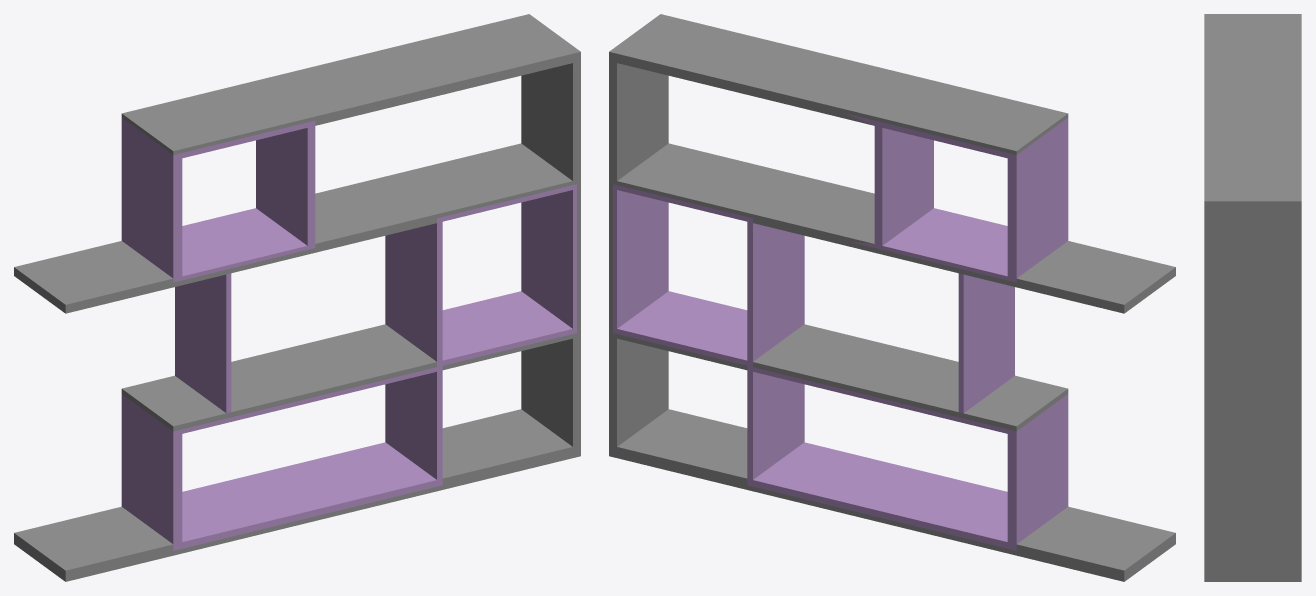
Rendered from repiza_cuadrada2.FBX.
3 views of the same model, side by side, from view 1: azimuth 30°, elevation 25°; view 2: azimuth 150°, elevation 25°; view 3: azimuth 270°, elevation 25° (orthographic). The views are drawn at different scales.
Parts seen in each view (by area): view 1: repiza cuadrada; view 2: repiza cuadrada; view 3: repiza cuadrada.
Boxes of the visible parts, x1,y1,x2,y2 form: repiza cuadrada: (14,14,580,581); repiza cuadrada: (609,14,1175,581); repiza cuadrada: (1204,14,1301,581).
Size of the model in its own units: 288 by 216 by 50.
